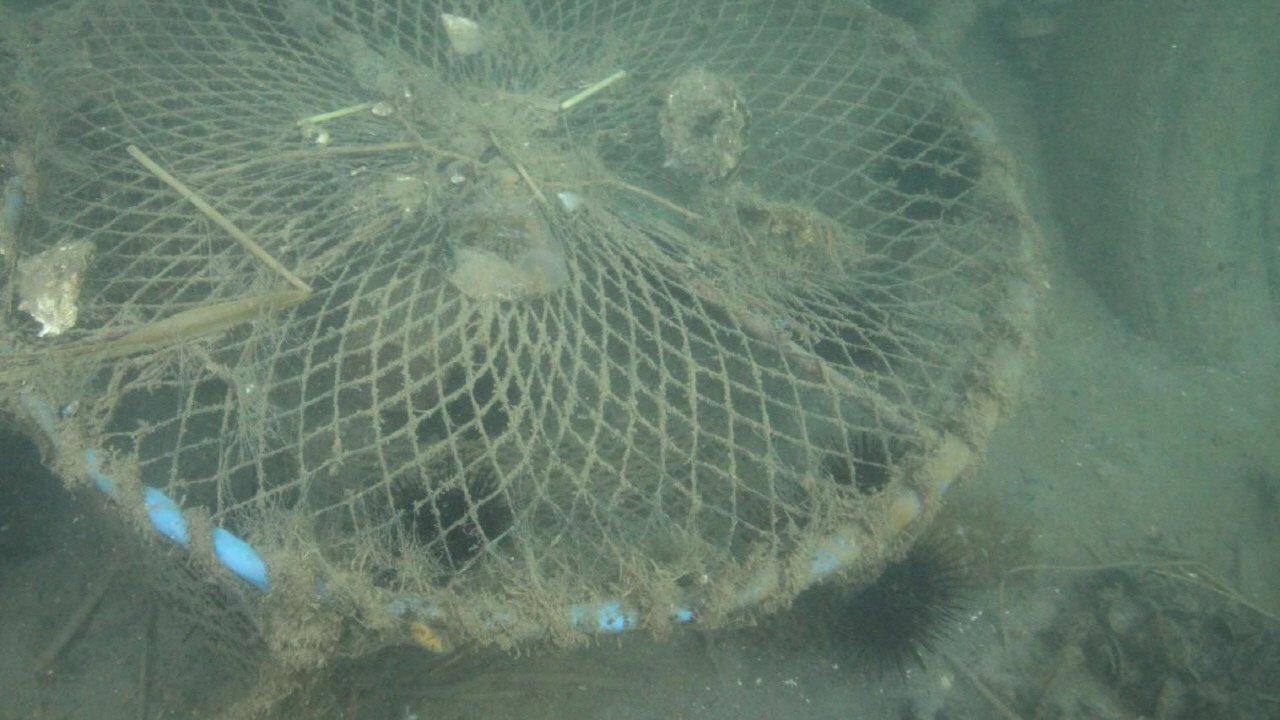circular fish trap: (0, 1, 1043, 646)
